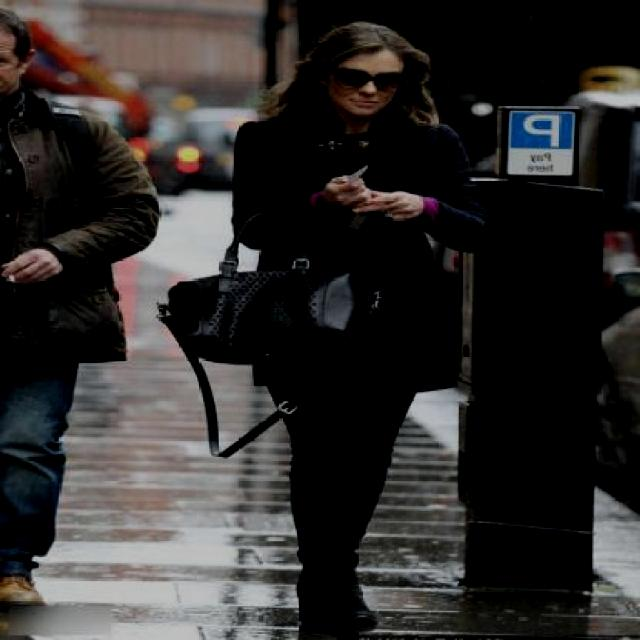Person: (179, 8, 467, 620)
